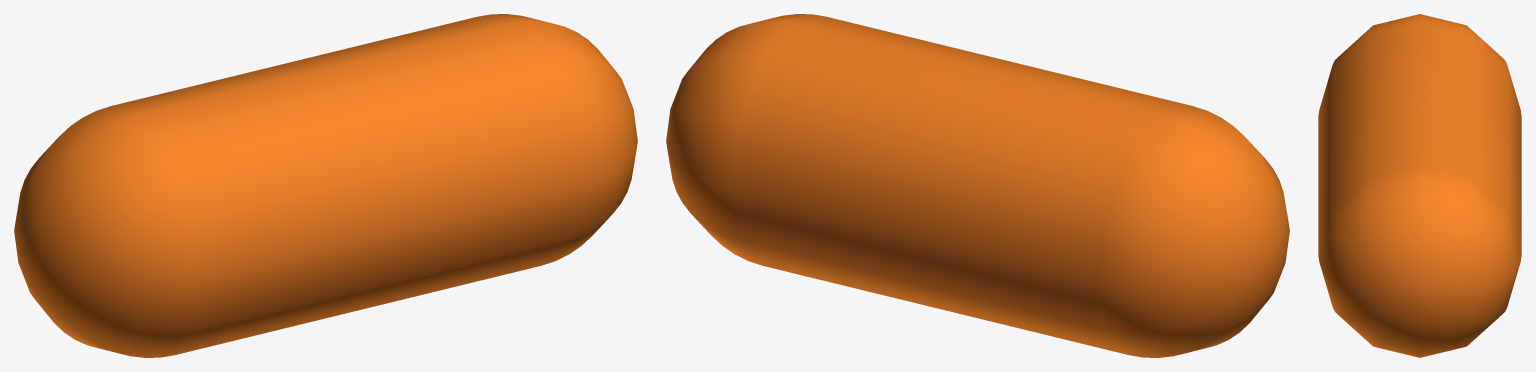
3 views of the same model, side by side, from view 1: azimuth 30°, elevation 25°; view 2: azimuth 150°, elevation 25°; view 3: azimuth 270°, elevation 25° (orthographic). The views are drawn at different scales.
Parts seen in each view (by area): view 1: gripper_frame; view 2: gripper_frame; view 3: gripper_frame.
Boxes of the visible parts, x1,y1,x2,y2 form: gripper_frame: (14,14,637,357); gripper_frame: (666,14,1289,357); gripper_frame: (1318,14,1521,357).
Bounding box in the file's own units: 0.0188 × 0.00709 × 0.00709.
